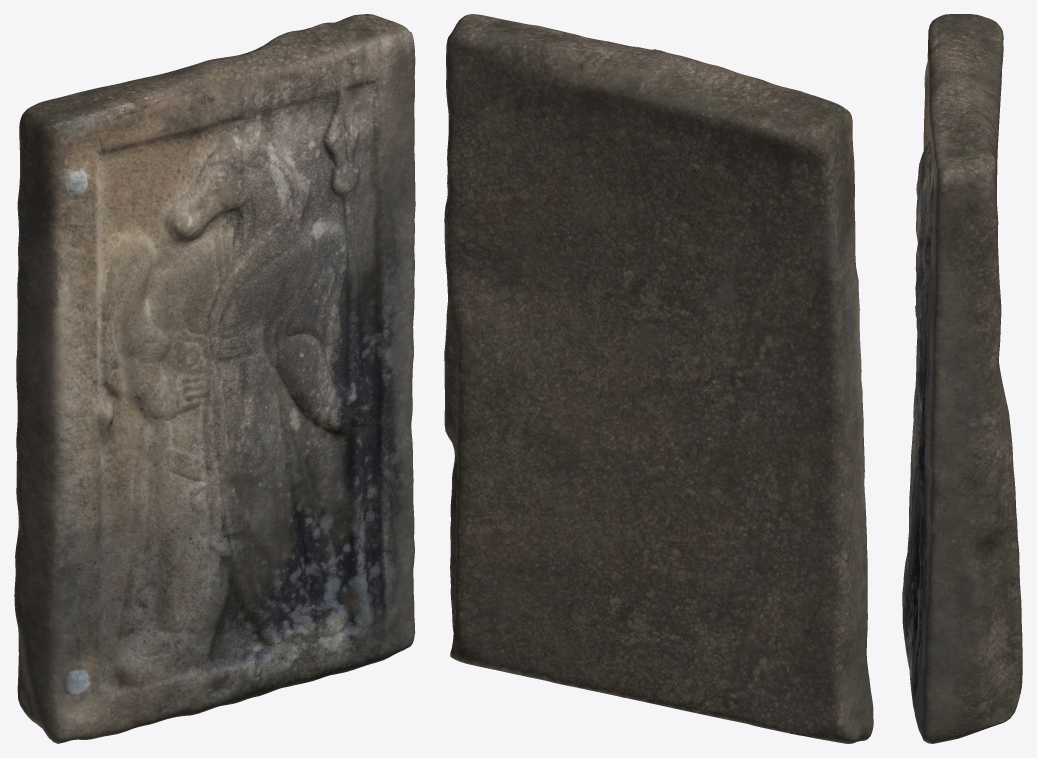
3 views of the same model, side by side, from view 1: azimuth 30°, elevation 25°; view 2: azimuth 150°, elevation 25°; view 3: azimuth 270°, elevation 25° (orthographic). The views are drawn at different scales.
Parts seen in each view (by area): view 1: Object_2; view 2: Object_2; view 3: Object_2.
Part boxes in pixels (x1,y1,x2,y2): Object_2: (14, 14, 415, 743); Object_2: (444, 14, 873, 743); Object_2: (902, 14, 1022, 743).
Bounding box in the file's own units: 0.6305 × 0.9879 × 0.1817.
1 material, 1 textured.
